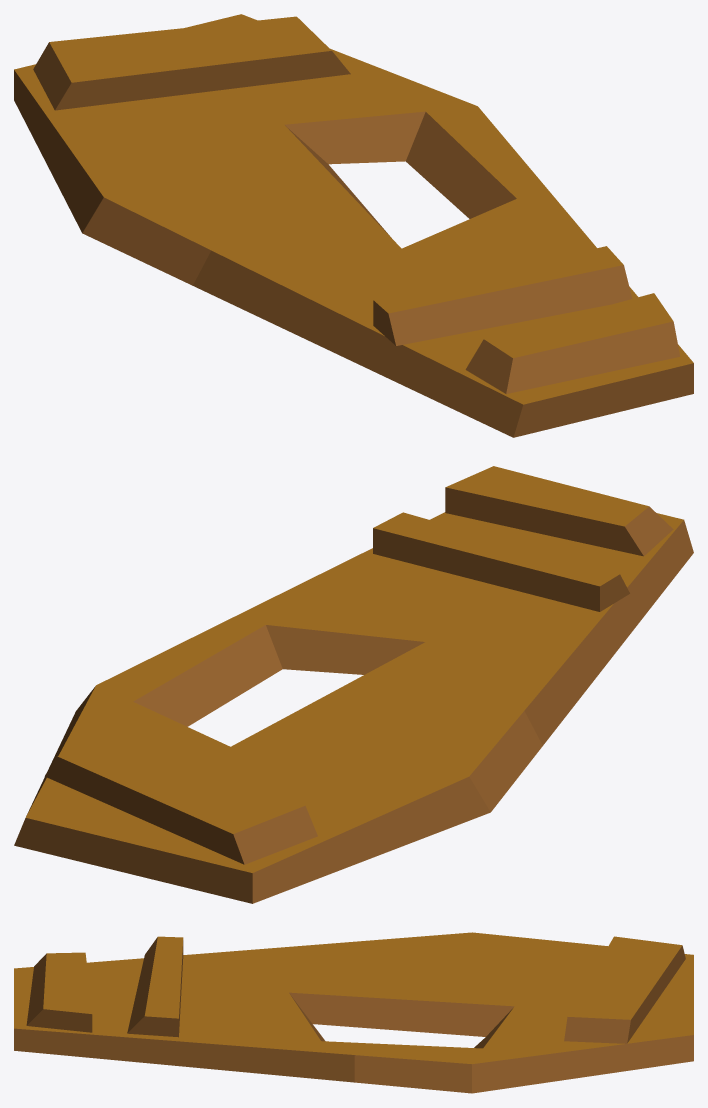
The model's file is caixao_quatro_tampa_001.fbx.
3 views of the same model, one above another, from view 1: azimuth 30°, elevation 25°; view 2: azimuth 150°, elevation 25°; view 3: azimuth 270°, elevation 25° (orthographic). The views are drawn at different scales.
Visible parts, largest first — view 1: caixao_quatro_tampa.001; view 2: caixao_quatro_tampa.001; view 3: caixao_quatro_tampa.001.
Part boxes in pixels (x1,y1,x2,y2): caixao_quatro_tampa.001: [14, 14, 693, 437]; caixao_quatro_tampa.001: [14, 466, 693, 903]; caixao_quatro_tampa.001: [14, 932, 693, 1093].
Size of the model in its own units: 164 by 21.71 by 321.
